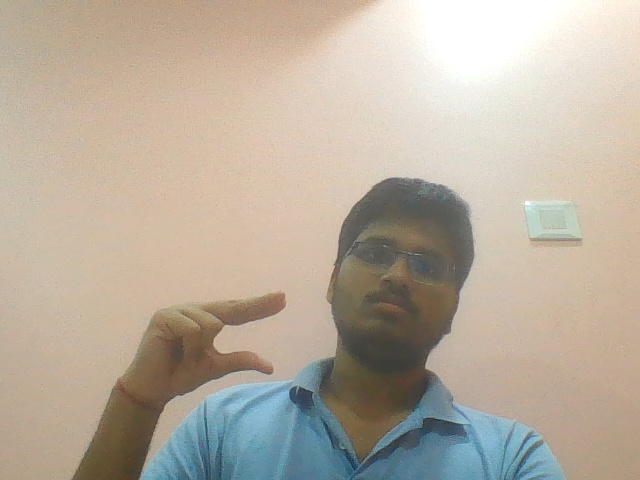no: (106, 282, 300, 386)
